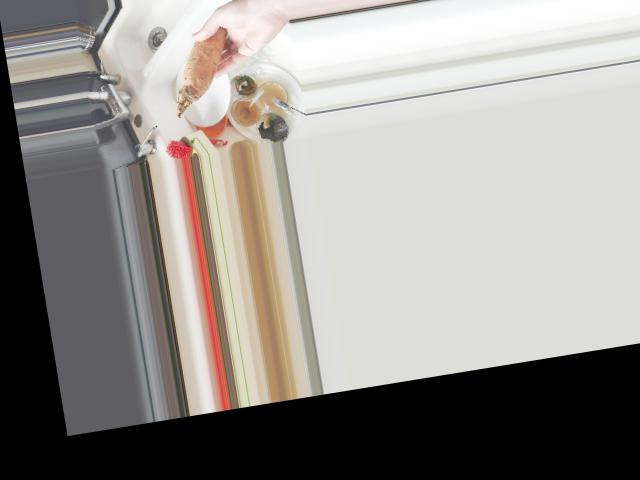sweet_potato: (162, 18, 244, 120)
